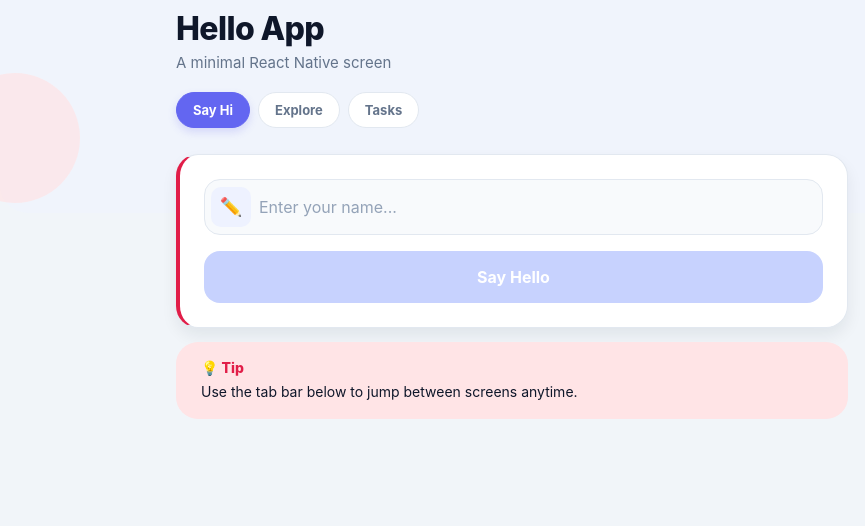
Test: HomeScreen › greets the user when a name is entered and the button is clicked
Type "Alice" into the field with placeholder "Enter your name..." at (538, 207), box [259,180,816,234]
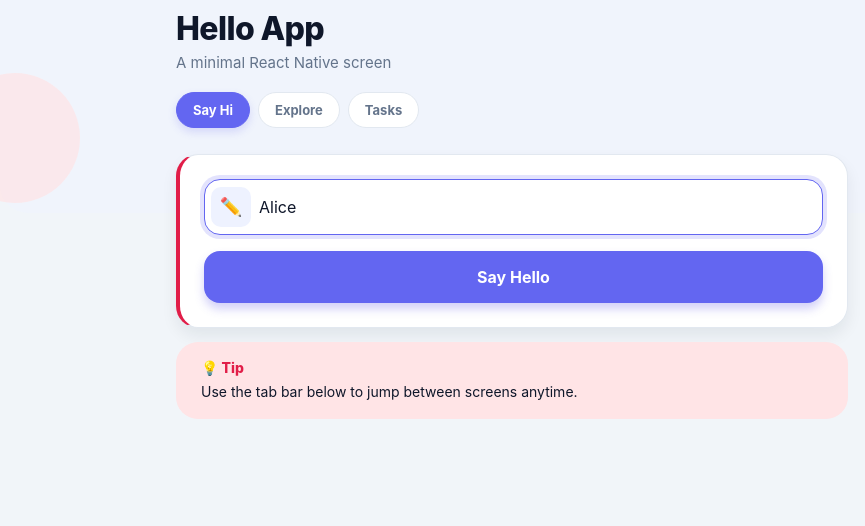
Check: the button "Say Hello" is enabled
Click the button "Say Hello" at (514, 277), box [204,251,823,303]
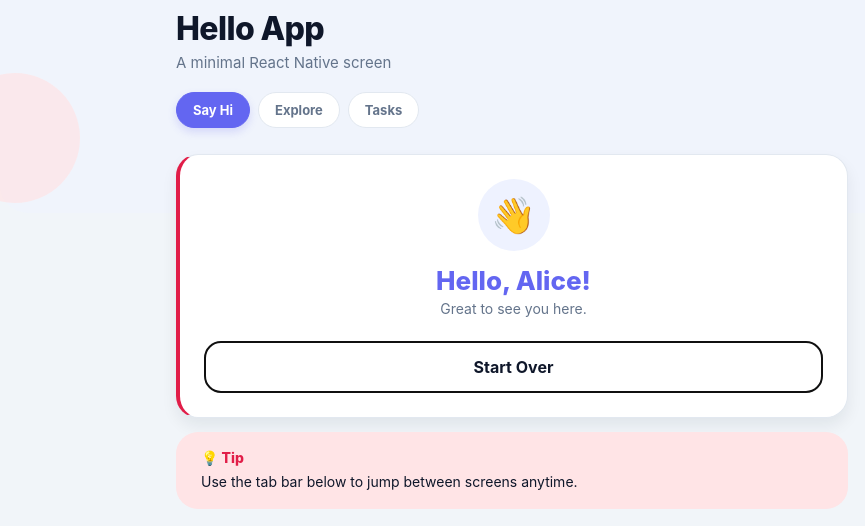
Check: the text "Hello, Alice!" is shown, box [436,265,591,296]
Check: the text "Great to see you here." is shown, box [440,300,587,317]
Check: the button "Start Over" is shown, box [204,341,823,393]
